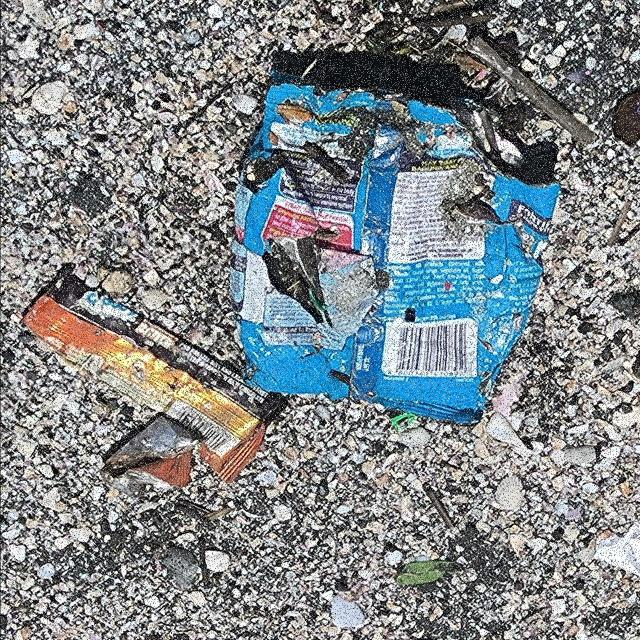plastic_waste: (231, 71, 566, 428), (19, 263, 293, 490)
